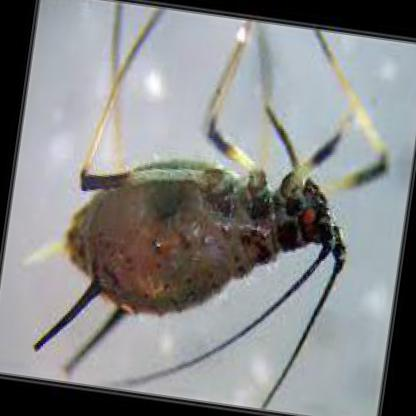uroleucon compositae: (25, 15, 390, 409)
